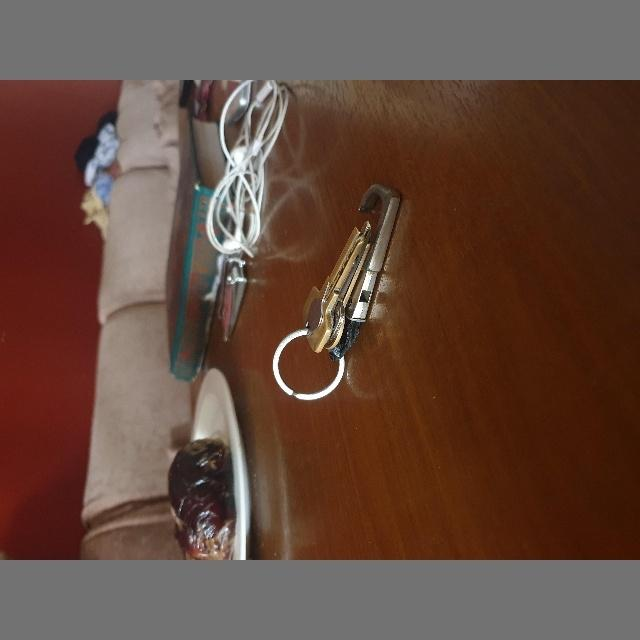Keys: (188, 273, 524, 392)
